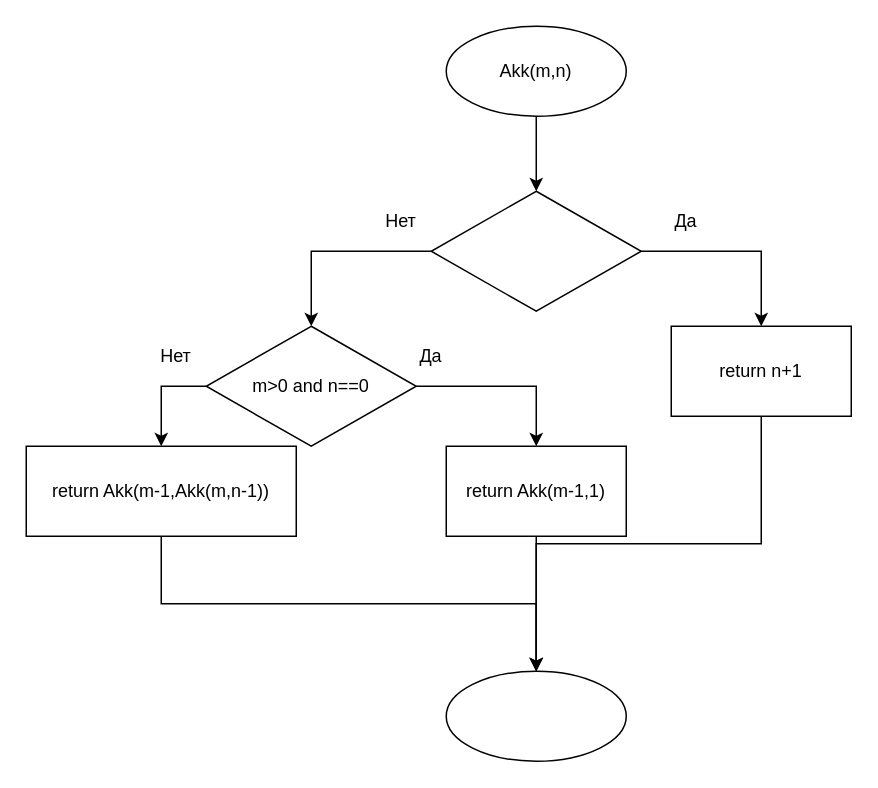
Image size: 878x788. Some labels were removed from this diagram. The shapes that lost their labels are listed below. From the top down, each one's box as (x1, y1, x2, y2) in pixels, then its label:
(430, 190, 641, 311): m==0
(445, 670, 626, 761): Конец
